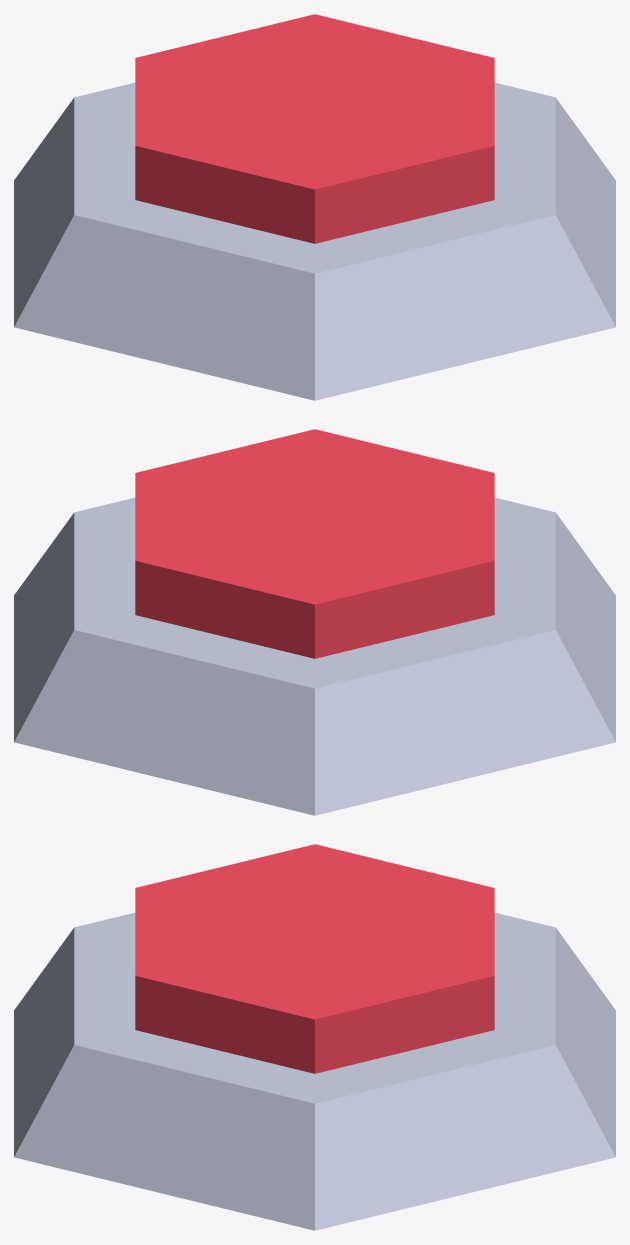
Rendered from button.fbx.
3 renders of one model, top to bottom at view 1: azimuth 30°, elevation 25°; view 2: azimuth 150°, elevation 25°; view 3: azimuth 270°, elevation 25°, orthographic.
Visible parts, largest first — view 1: button, knob; view 2: button, knob; view 3: button, knob.
Boxes of the visible parts, x1,y1,x2,y2 form: button: (14, 82, 615, 400); knob: (135, 14, 494, 243); button: (14, 497, 615, 815); knob: (135, 429, 494, 658); button: (14, 912, 615, 1230); knob: (135, 844, 494, 1073).
Bounding box in the file's own units: 5.8 × 1.4 × 5.02.
